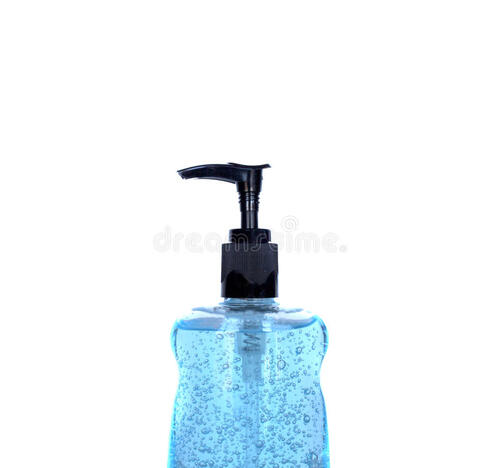sanitizer: (159, 154, 331, 467)
